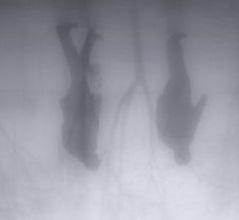person: (55, 22, 108, 172), (156, 31, 205, 167)
